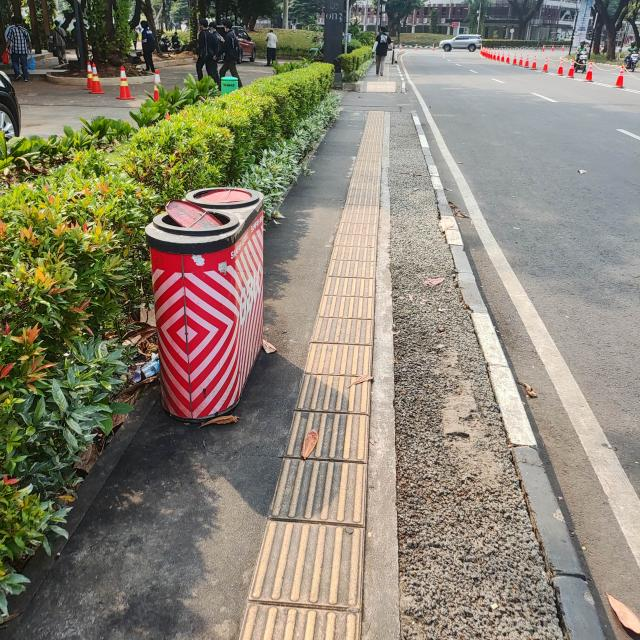lurus: (298, 135, 374, 640)
